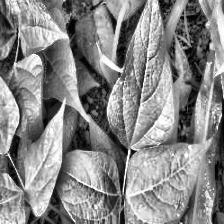Bean Rust: (108, 0, 172, 147), (122, 139, 220, 224), (56, 151, 116, 224)
